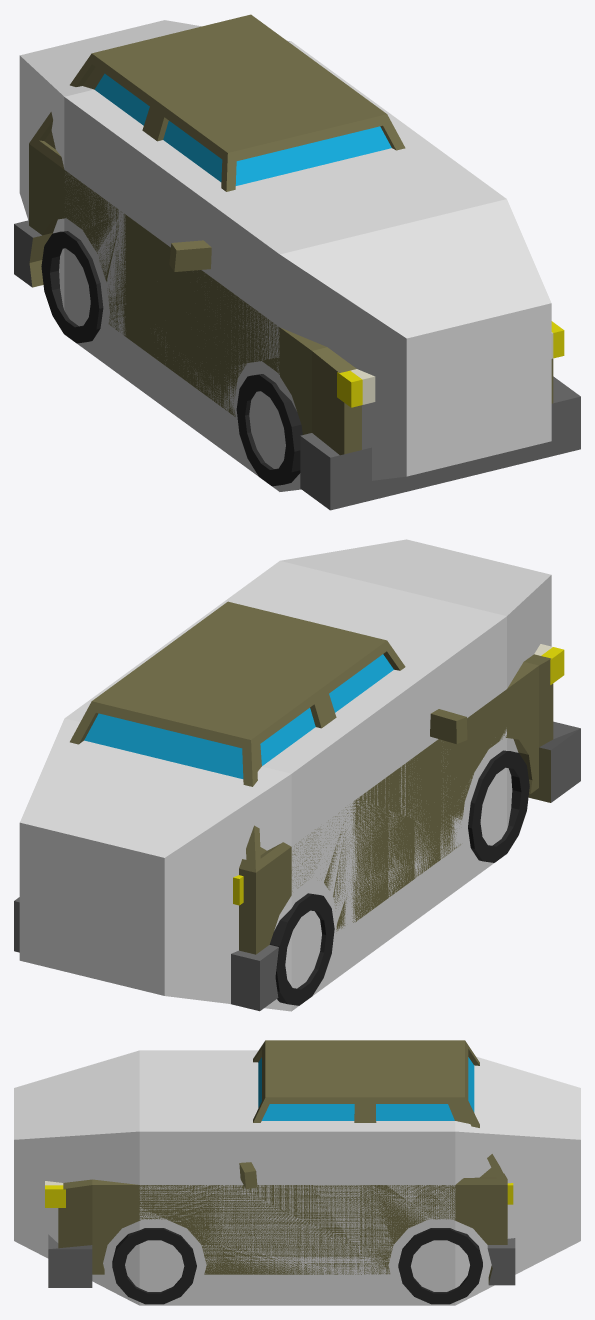
Rendered from AI_SUV.fbx.
The picture shows the model from 3 angles, top to bottom: view 1: azimuth 30°, elevation 25°; view 2: azimuth 150°, elevation 25°; view 3: azimuth 270°, elevation 25°; orthographic projection. The views are drawn at different scales.
Parts seen in each view (by area): view 1: car physic .001, suv, wheel, wheel.001; view 2: car physic .001, suv, wheel, wheel.001; view 3: car physic .001, suv, wheel.001, wheel.
Part boxes in pixels (box(x1,y1,x2,y2)): car physic .001: box(19, 20, 551, 491); suv: box(14, 14, 580, 510); wheel: box(236, 374, 302, 486); wheel.001: box(41, 231, 103, 343); car physic .001: box(19, 539, 551, 1011); suv: box(14, 601, 580, 1011); wheel: box(468, 750, 529, 862); wheel.001: box(269, 893, 334, 1005); car physic .001: box(14, 1050, 580, 1305); suv: box(45, 1040, 515, 1287); wheel.001: box(398, 1228, 482, 1304); wheel: box(112, 1228, 196, 1304).
Size of the model in its own units: 258 by 226 by 590.
